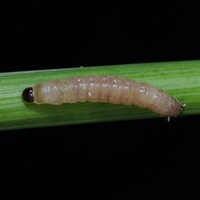insect: (22, 75, 182, 116)
